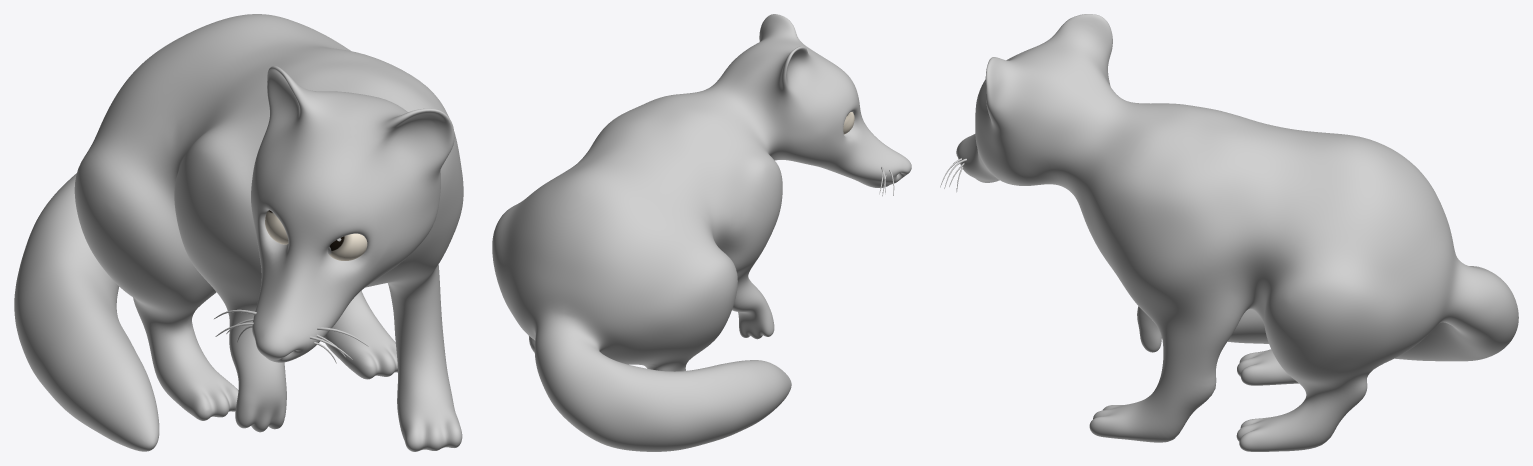
File: Blaireau.fbx
The picture shows the model from 3 angles, left to right: view 1: azimuth 30°, elevation 25°; view 2: azimuth 150°, elevation 25°; view 3: azimuth 270°, elevation 25°; orthographic projection. The views are drawn at different scales.
Parts seen in each view (by area): view 1: body, Eye_l, Eye_r; view 2: body; view 3: body.
Boxes of the visible parts, x1,y1,x2,y2 form: body: [14, 14, 463, 451]; Eye_l: [327, 233, 367, 260]; Eye_r: [265, 210, 288, 244]; body: [492, 14, 911, 451]; body: [956, 14, 1518, 451].
Size of the model in its own units: 47.23 by 50.13 by 74.55.
